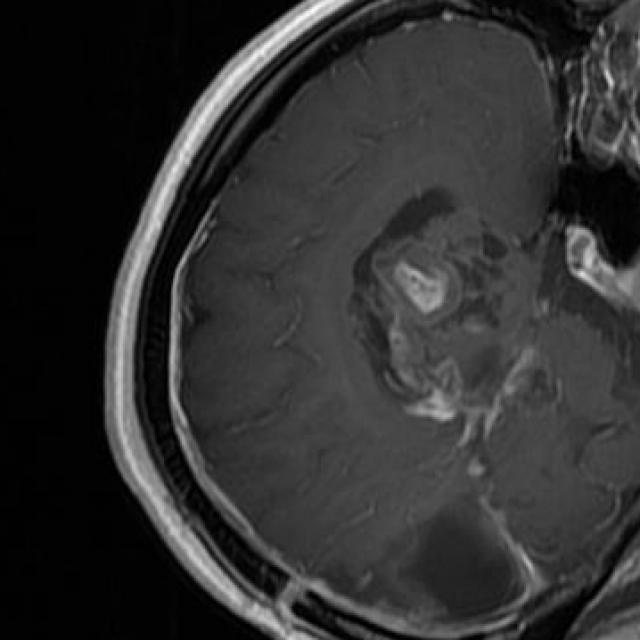glioma: (326, 499, 538, 633)
